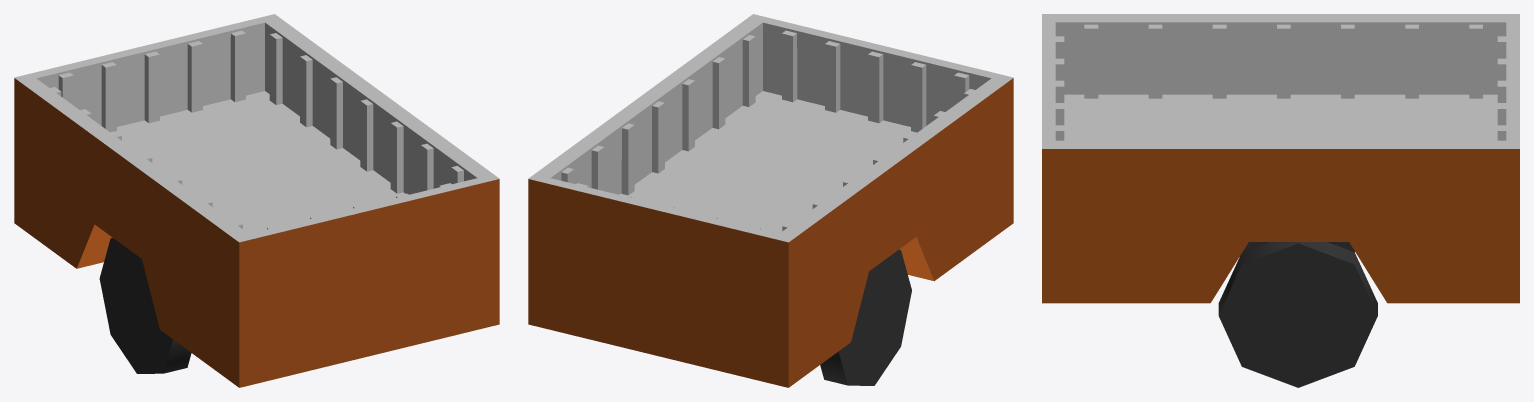
The model's file is Trolly_2.FBX.
The picture shows the model from 3 angles, left to right: view 1: azimuth 30°, elevation 25°; view 2: azimuth 150°, elevation 25°; view 3: azimuth 270°, elevation 25°; orthographic projection. The views are drawn at different scales.
Parts seen in each view (by area): view 1: Trolly_2; view 2: Trolly_2; view 3: Trolly_2.
Boxes of the visible parts, x1,y1,x2,y2 form: Trolly_2: [14, 14, 499, 387]; Trolly_2: [528, 14, 1013, 387]; Trolly_2: [1042, 14, 1519, 387].
Bounding box in the file's own units: 1.74 × 1.43 × 2.59.
1 material, 1 textured.
